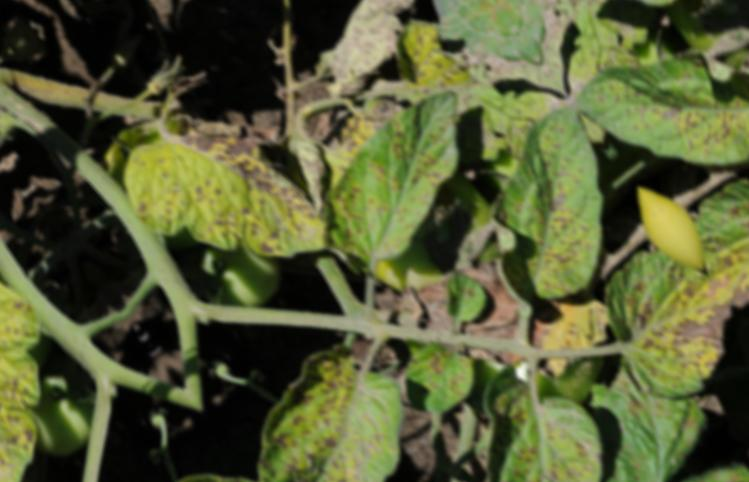Tomato Septoria leaf spot: (95, 71, 349, 330), (285, 73, 523, 300), (434, 95, 656, 321), (553, 228, 749, 437), (214, 322, 461, 482), (442, 372, 653, 482)
